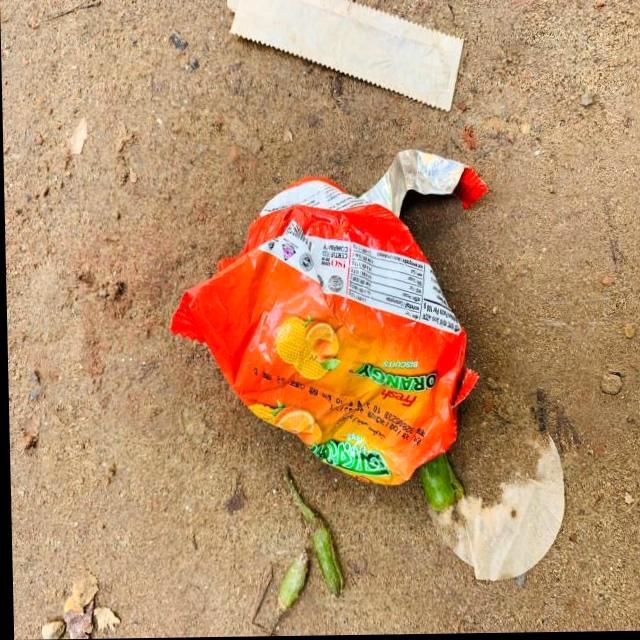packet: (206, 110, 476, 490)
